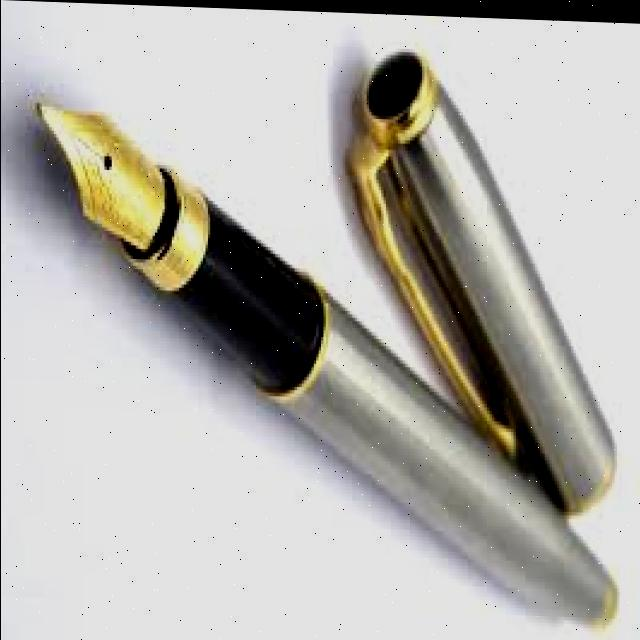pen: (36, 85, 623, 628)
